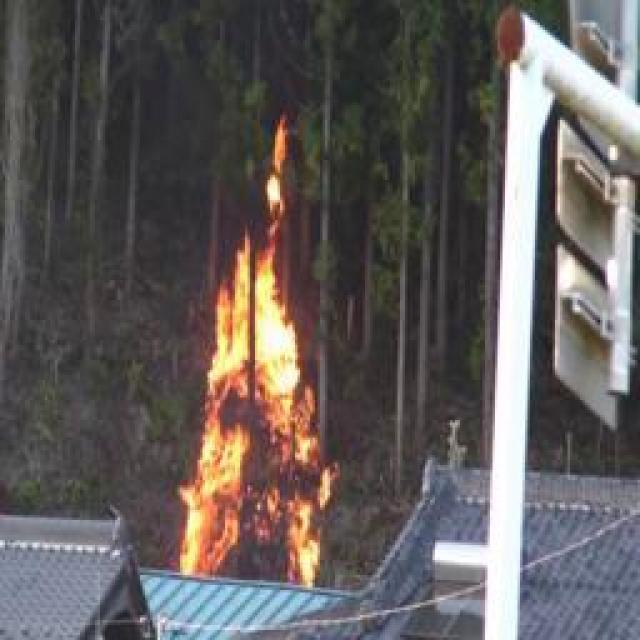Fire: (179, 119, 336, 589)
